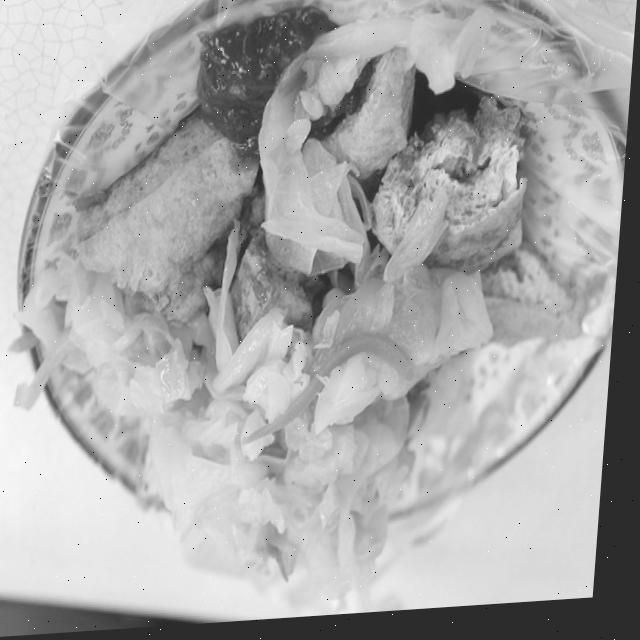豆腐料理: (32, 23, 628, 577)
